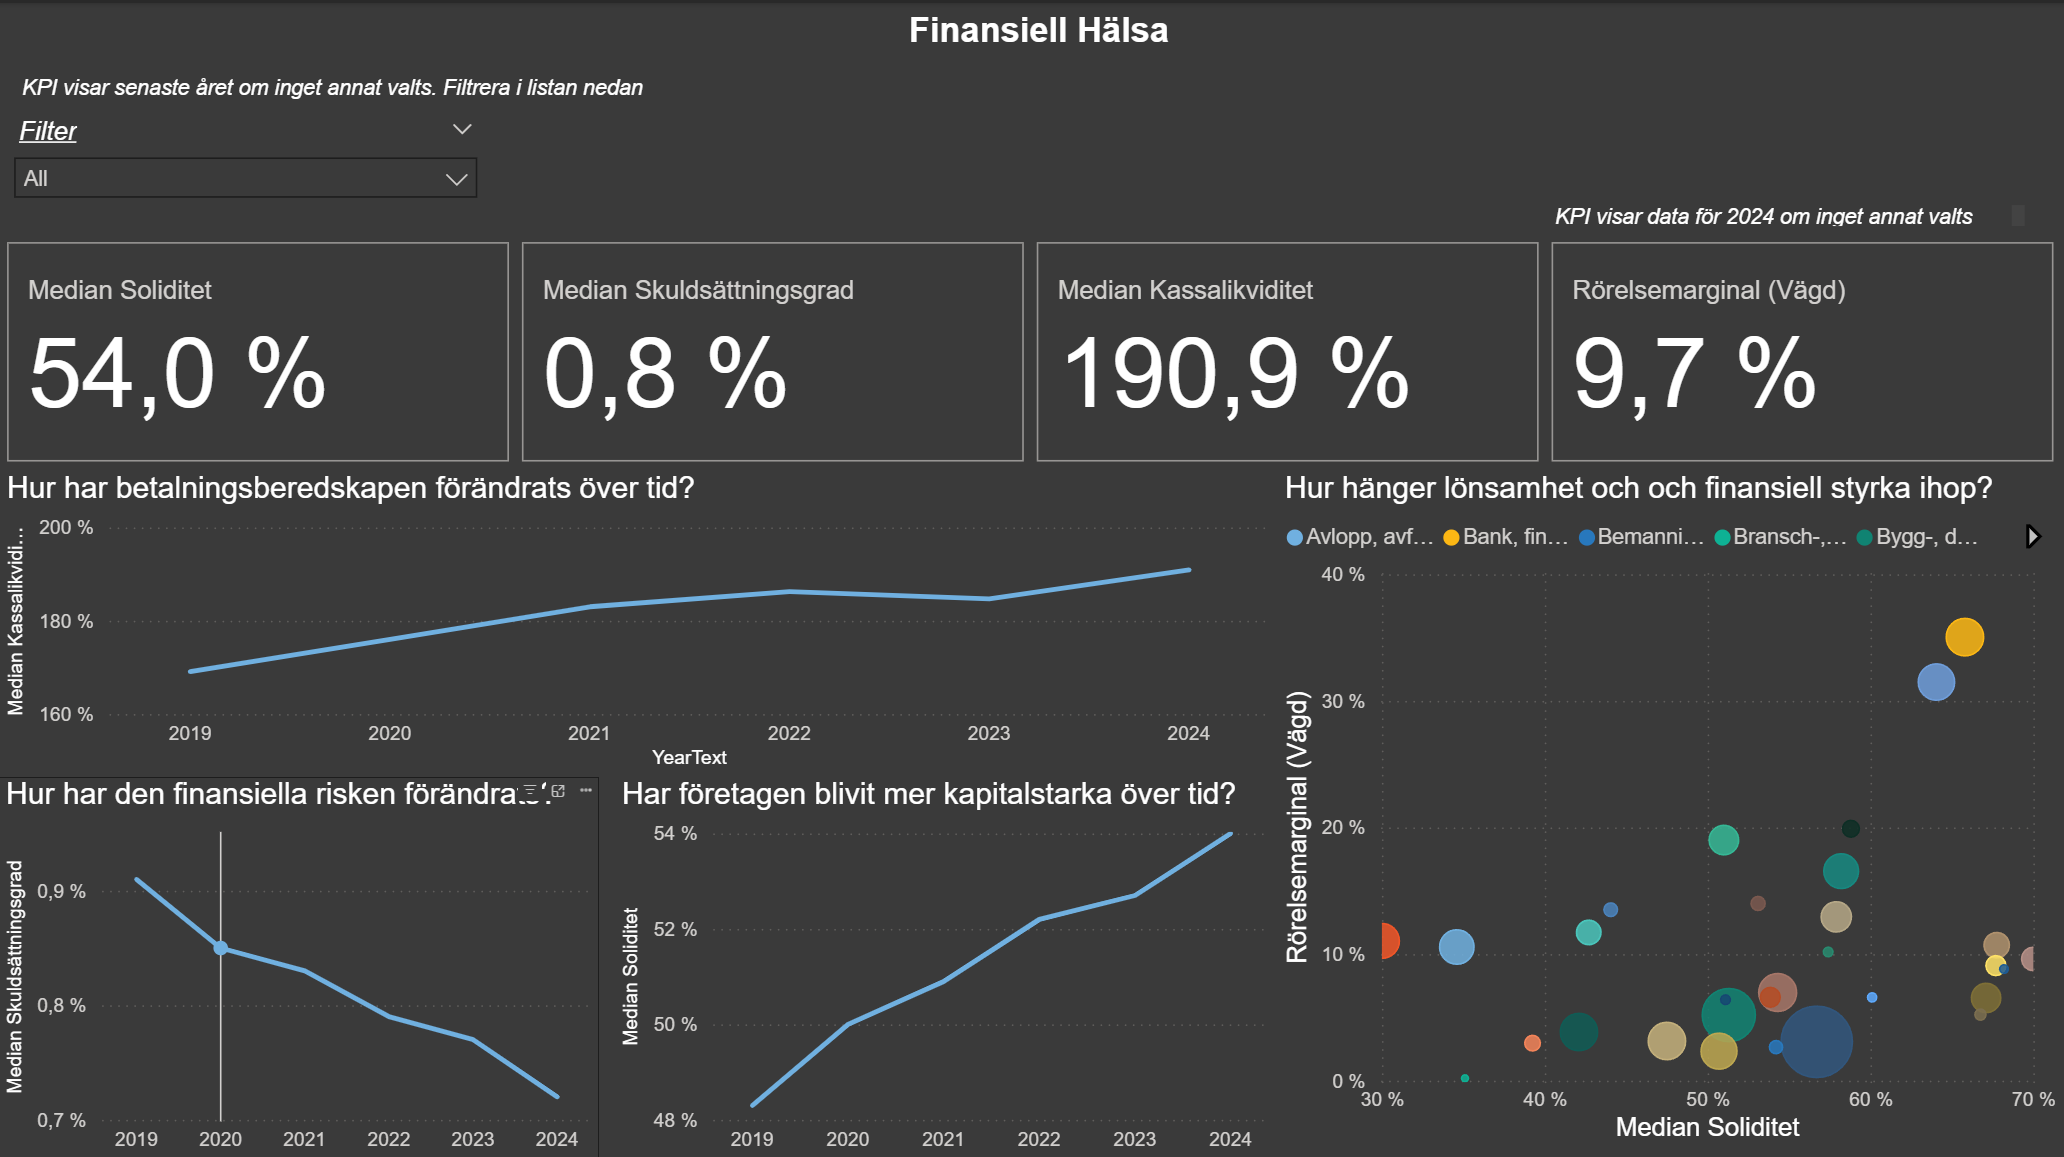

This screenshot's page, from the dashboard's own definition file:
{"tool":"powerbi","page":{"name":"Hälsa","canvas":[1280,720],"ordinal":3},"visuals":[{"type":"textbox","box":[9.9,0,1270.2,67.5],"z":0},{"type":"slicer","fields":{"Values":["dimYear.YearText","Financials.Bransch huvudgrupp","Financials.Kommunsäte"]},"box":[0,65.7,306.7,77.5],"z":1000},{"type":"cardVisual","fields":{"Data":["Financials.Median Soliditet","Financials.Median Skuldsättningsgrad","Financials.Median Kassalikviditet","Financials.Vägt Rörelsemarginal"]},"box":[0.5,143.1,1279.5,146.9],"z":2000},{"type":"lineChart","title":"Hur har betalningsberedskapen förändrats över tid?","fields":{"Category":["dimYear.YearText"],"Y":["Financials.Median Kassalikviditet"]},"box":[0.6,290,791.9,189.6],"z":3000},{"type":"lineChart","title":"Har företagen blivit mer kapitalstarka över tid?","fields":{"Category":["dimYear.YearText"],"Y":["Financials.Median Soliditet"]},"box":[381.7,479.6,410.8,240.4],"z":4000},{"type":"lineChart","title":"Hur har den finansiella risken förändrats?","fields":{"Category":["dimYear.YearText"],"Y":["Financials.Median Skuldsättningsgrad"]},"box":[0,479.6,372.4,240.4],"z":5000},{"type":"scatterChart","title":"Hur hänger lönsamhet och och finansiell styrka ihop?","fields":{"X":["Financials.Median Soliditet"],"Y":["Financials.Vägt Rörelsemarginal"],"Series":["Financials.Bransch huvudgrupp"],"Size":["Financials.Total Omsättning (mdr)"]},"box":[792.5,290,487.6,420.1],"z":6000},{"type":"textbox","box":[959.8,120.2,300.5,22.9],"z":7000}]}

Visuals, with their boxes in screenshot pixels (x1, y1, x2, y2), scaled from the page's 1280x720 canvas onto the 2064x1157 screenshot:
textbox: 16/0/2063/108
slicer - dimYear.YearText x Financials.Bransch huvudgrupp: 0/106/495/230
cardVisual - Financials.Median Soliditet x Financials.Median Skuldsättningsgrad: 1/230/2063/466
"Hur har betalningsberedskapen förändrats över tid?" lineChart: 1/466/1278/771
"Har företagen blivit mer kapitalstarka över tid?" lineChart: 615/771/1278/1156
"Hur har den finansiella risken förändrats?" lineChart: 0/771/600/1156
"Hur hänger lönsamhet och och finansiell styrka ihop?" scatterChart: 1278/466/2063/1141
textbox: 1548/193/2032/230
